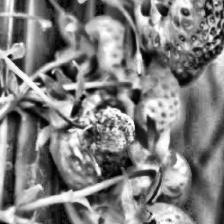Gray Mold: (66, 107, 138, 177)
